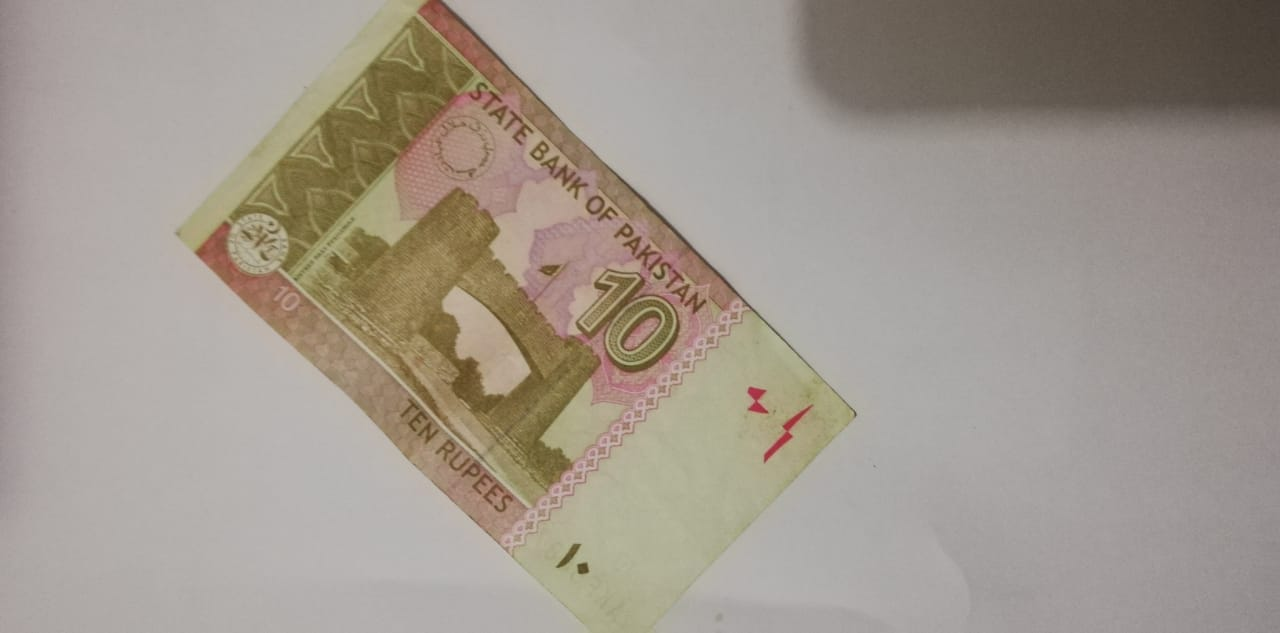10 rupee: (170, 1, 865, 630)
